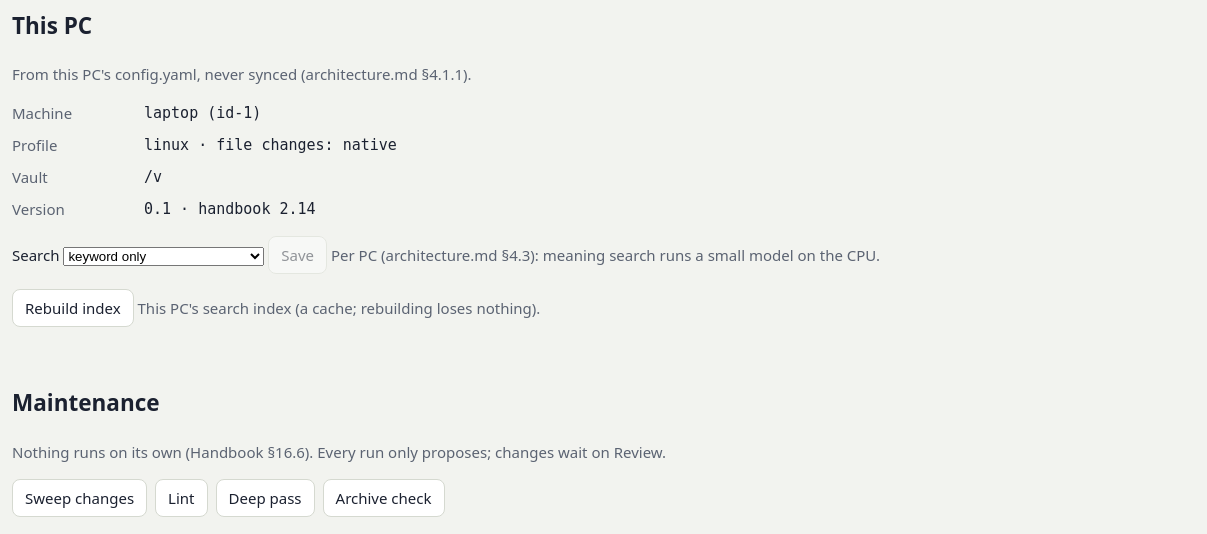
Test: SettingsScreen › saves this PC's search option
Check: the button "Save" is disabled, box [268,236,327,274]
Select "keyword + meaning (e5-small)" in the dropdown named "Search option". click: (164,257)
box: [63,247,264,266]
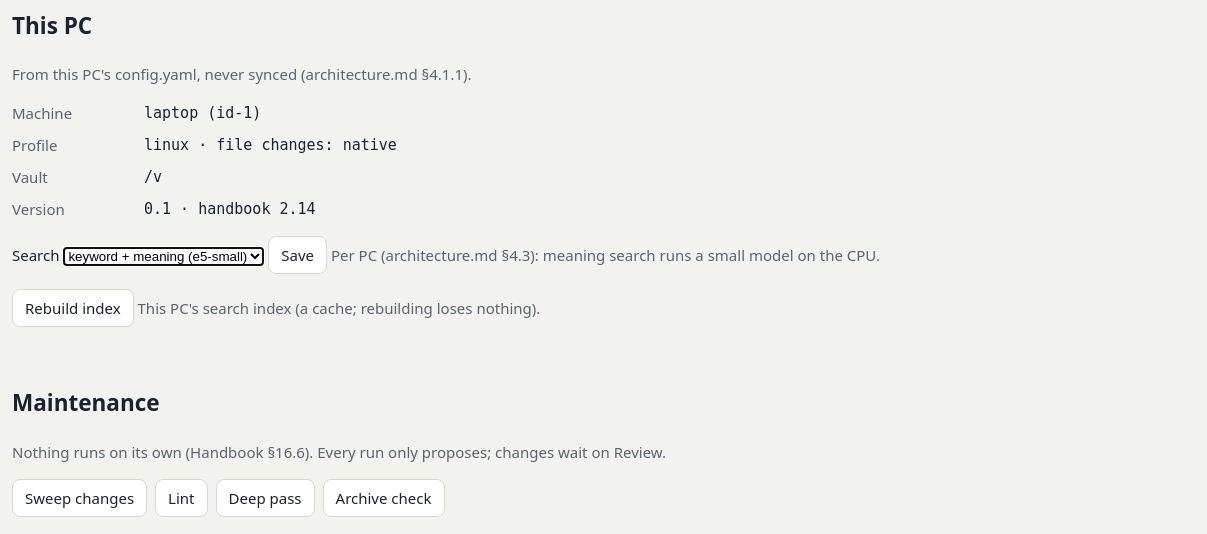
Click the button "Save". click: (298,255)
box: [268,236,327,274]
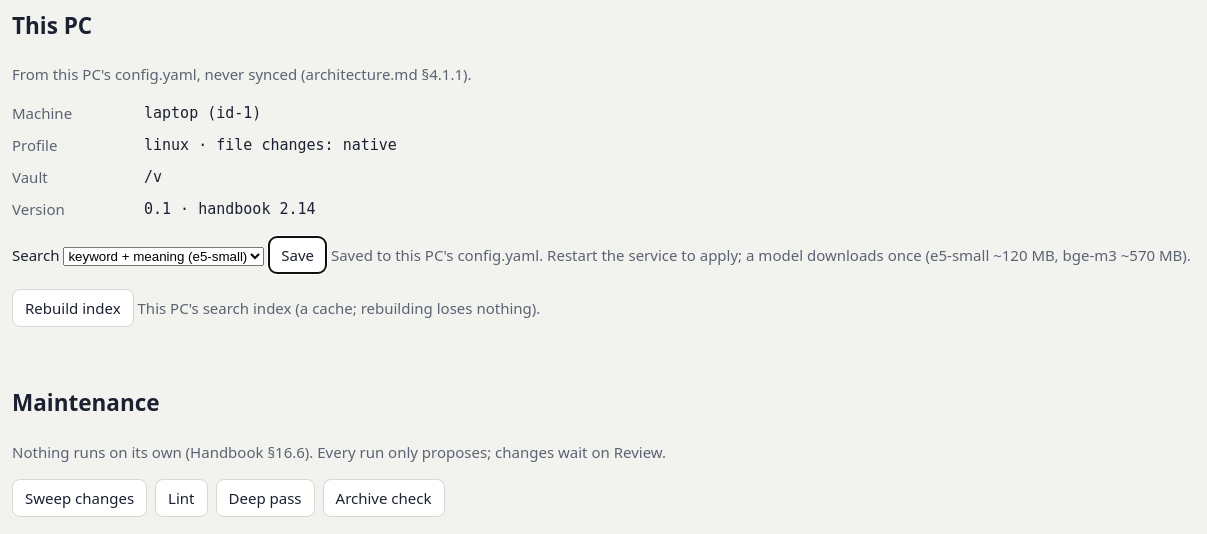
Check: the text "Restart the service to apply" is shown, box [331,245,1191,265]
